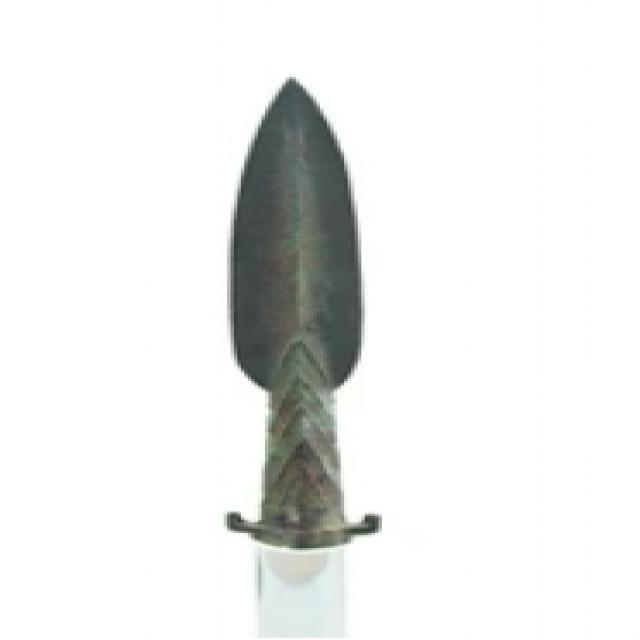spear: (184, 63, 420, 623)
